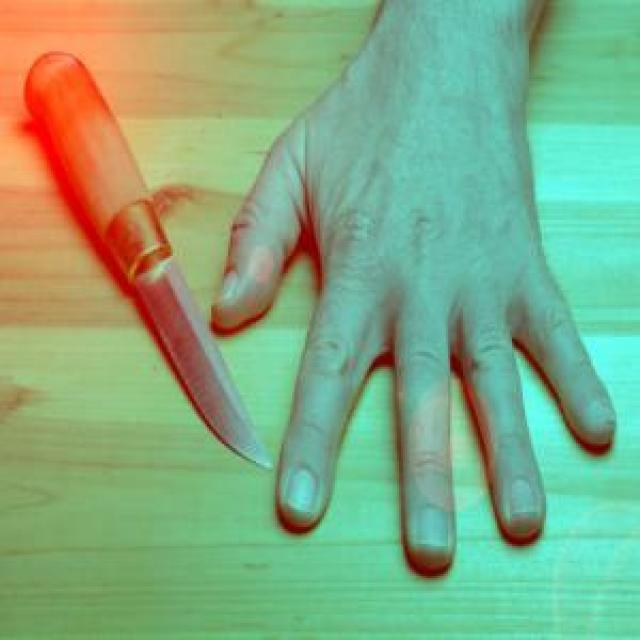knife: (24, 45, 278, 472)
